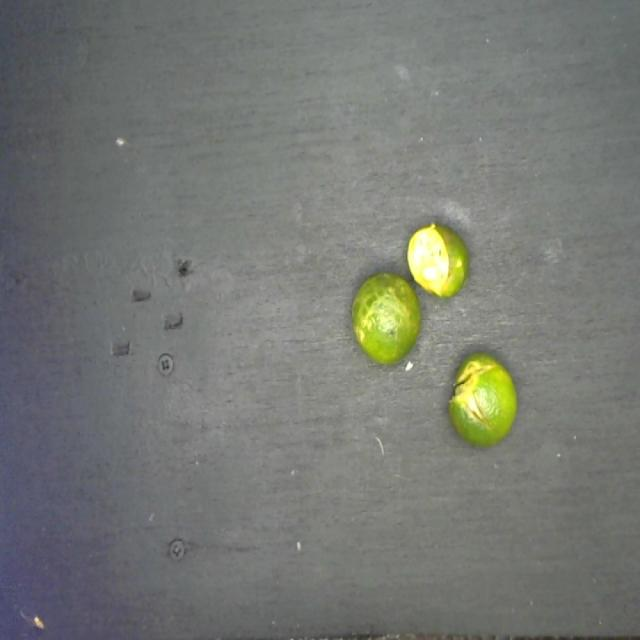biodegradable: (347, 218, 521, 454)
